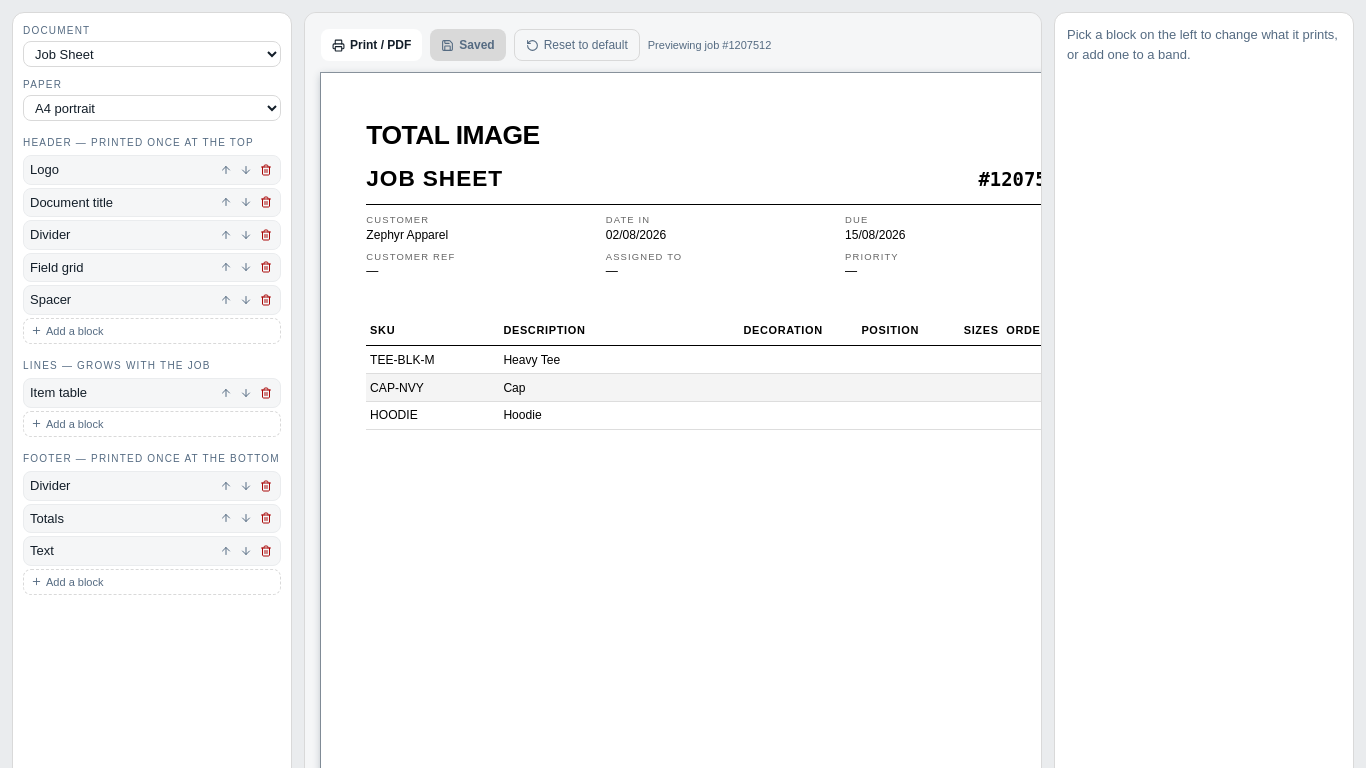
Test: the designer › editing a block changes the preview
The width and height of the screenshot is (1366, 768).
Expected: the text "Previewing job #1207512" is shown, [648, 37, 771, 53]
Click the button "Document title". click: [122, 202]
box: [30, 192, 214, 212]
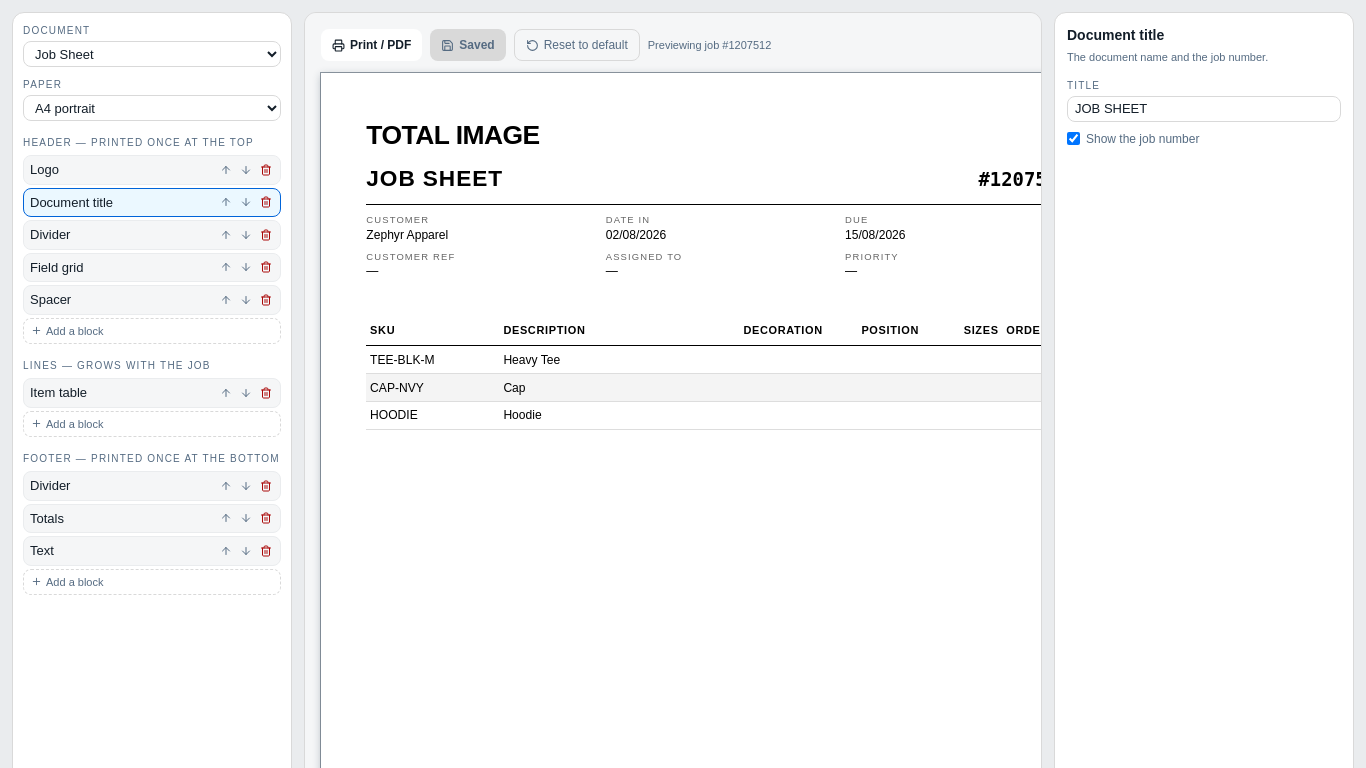
Replace the text in the field labelled "Title" with "WORKS ORDER". click: [1204, 108]
box: [1067, 96, 1341, 122]
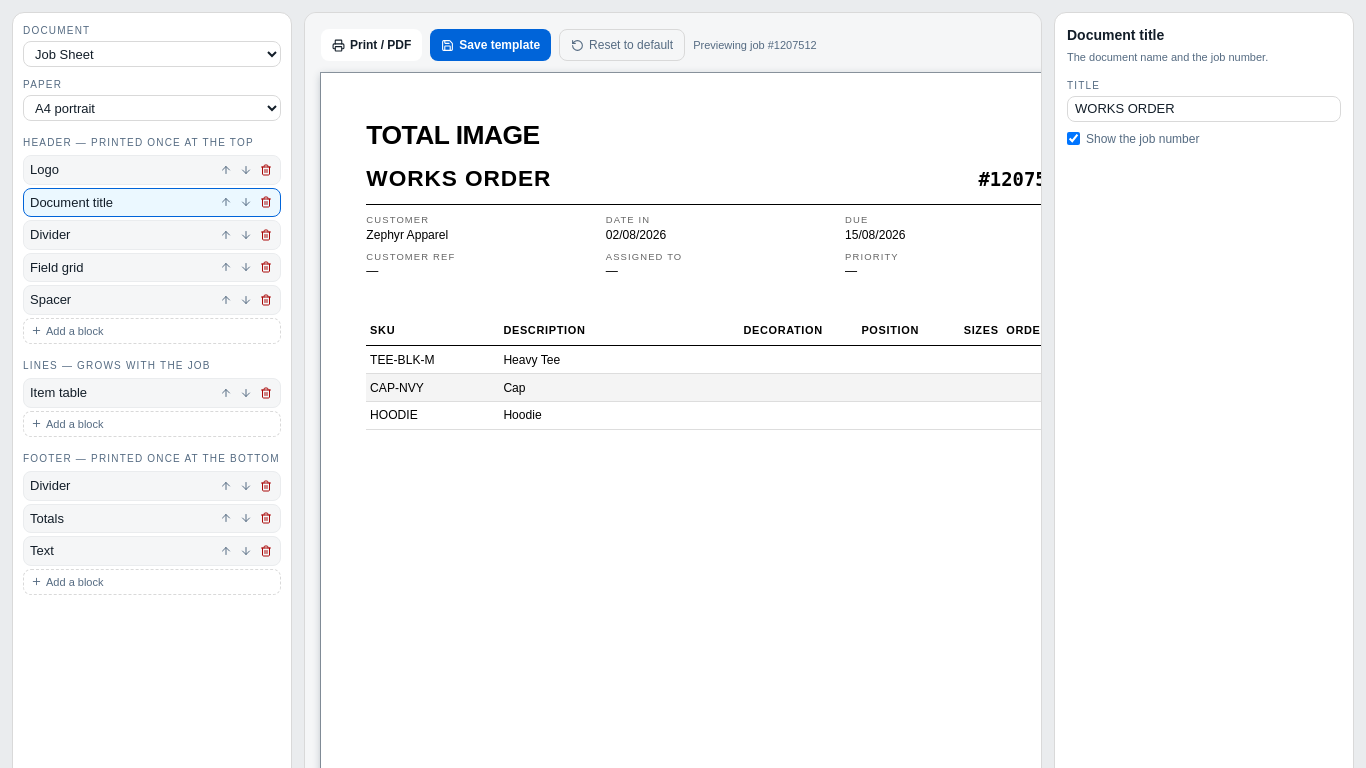
Expected: the text "WORKS ORDER" is shown, [366, 164, 551, 194]
